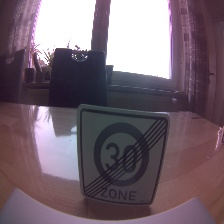dreisiger_zone_ende: (75, 103, 170, 206)
